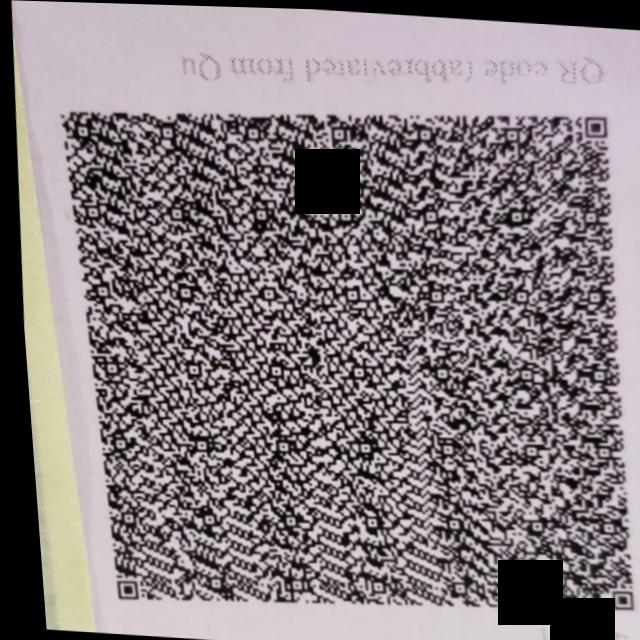QR_CODE: (22, 49, 640, 640)
